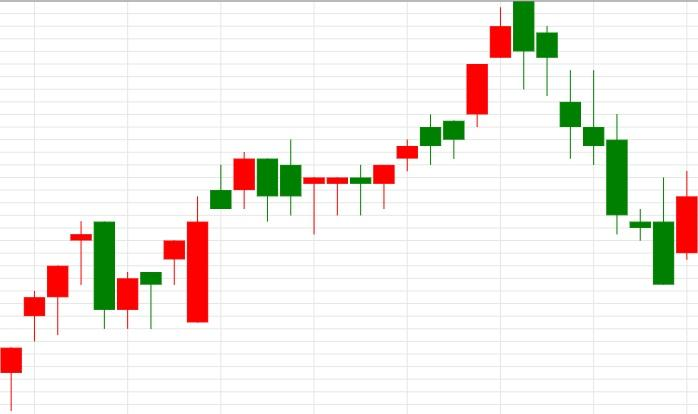bearish_engulfing_fall: (302, 0, 535, 234), (0, 221, 116, 411)
